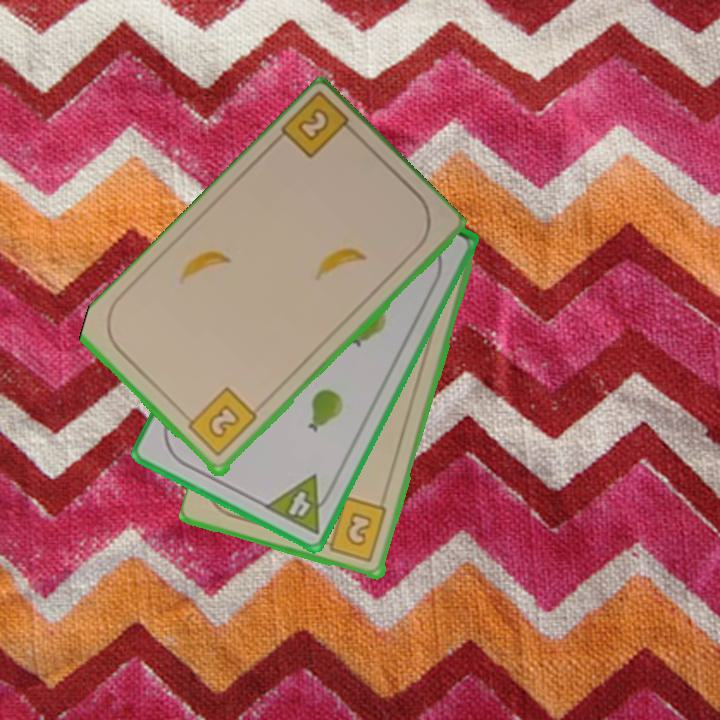2b: (180, 384, 261, 460), (276, 91, 362, 162), (317, 494, 390, 565)
4p: (261, 471, 339, 538)
